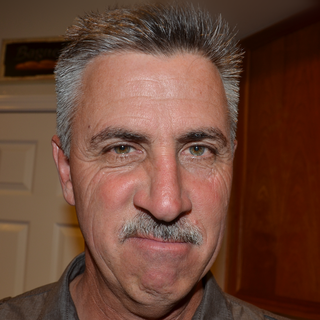eye: (98, 138, 146, 163), (177, 138, 222, 163)
